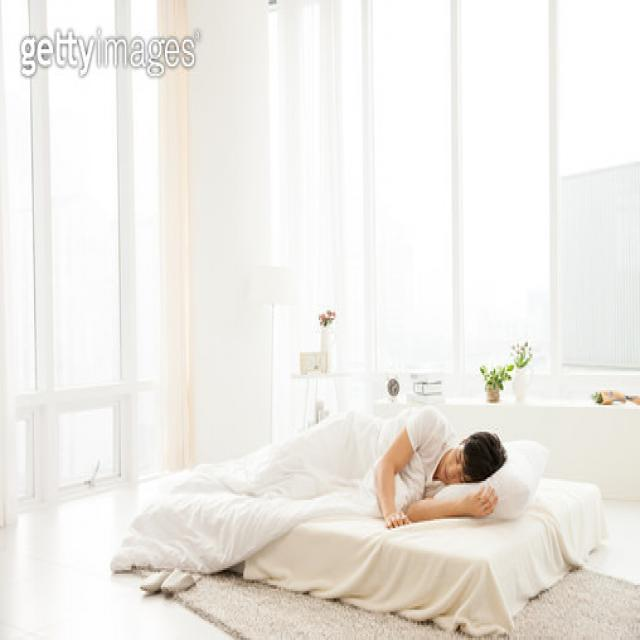people: (152, 377, 508, 543)
